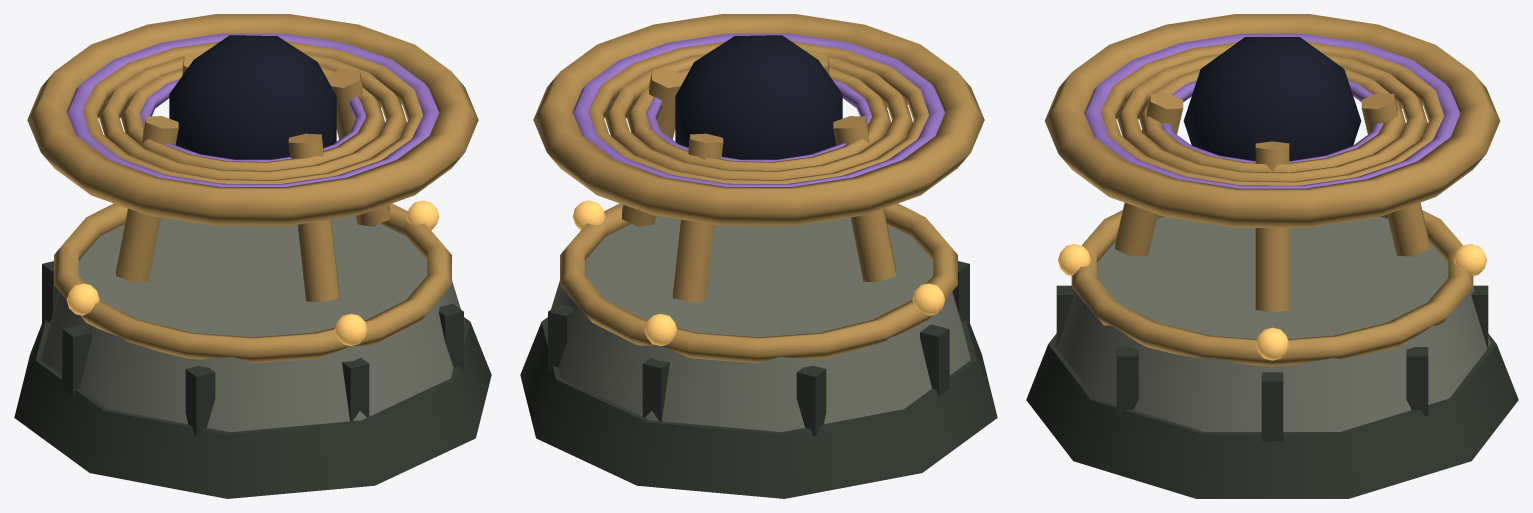
Rendered from tower_gravity_gravityCore_ultimate.glb.
The picture shows the model from 3 angles, left to right: view 1: azimuth 30°, elevation 25°; view 2: azimuth 150°, elevation 25°; view 3: azimuth 270°, elevation 25°; orthographic projection.
Visible parts, largest first — view 1: stone_1, foot_0, event_horizon_24, black_hole_15, rim_2, orbit_22, event_light_25, orbit_23, orbit_21, claw_18, claw_19, claw_17 (+9 smaller); view 2: stone_1, foot_0, event_horizon_24, black_hole_15, rim_2, orbit_22, event_light_25, orbit_23, orbit_21, claw_16, claw_19, claw_17 (+9 smaller); view 3: stone_1, foot_0, event_horizon_24, black_hole_15, rim_2, orbit_22, event_light_25, orbit_23, orbit_21, claw_17, claw_18, claw_16 (+9 smaller).
Part boxes in pixels (<box>): stone_1: <box>41,216,464,432</box>; foot_0: <box>14,317,491,498</box>; event_horizon_24: <box>27,14,478,225</box>; black_hole_15: <box>169,35,336,159</box>; rim_2: <box>54,203,451,362</box>; orbit_22: <box>99,54,406,179</box>; event_light_25: <box>66,33,439,186</box>; orbit_23: <box>83,41,422,183</box>; orbit_21: <box>120,66,384,170</box>; claw_18: <box>288,133,339,301</box>; claw_19: <box>116,116,178,281</box>; claw_17: <box>327,68,390,226</box>; stone_1: <box>547,216,970,432</box>; foot_0: <box>520,317,997,498</box>; event_horizon_24: <box>533,14,984,225</box>; black_hole_15: <box>675,35,842,159</box>; rim_2: <box>560,203,957,362</box>; orbit_22: <box>605,53,912,179</box>; event_light_25: <box>572,33,945,186</box>; orbit_23: <box>589,41,928,183</box>; orbit_21: <box>626,67,890,170</box>; claw_16: <box>672,133,723,301</box>; claw_19: <box>833,116,895,281</box>; claw_17: <box>621,68,684,226</box>; stone_1: <box>1054,217,1490,431</box>; foot_0: <box>1026,333,1518,498</box>; event_horizon_24: <box>1045,14,1499,227</box>; black_hole_15: <box>1183,37,1361,160</box>; rim_2: <box>1071,210,1473,366</box>; orbit_22: <box>1117,54,1427,181</box>; event_light_25: <box>1084,33,1460,188</box>; orbit_23: <box>1101,41,1443,185</box>; orbit_21: <box>1139,68,1405,172</box>; claw_17: <box>1255,141,1289,312</box>; claw_18: <box>1115,93,1183,256</box>; claw_16: <box>1361,93,1429,256</box>.
Size of the model in its own units: 0.5326 by 0.451 by 0.56.
